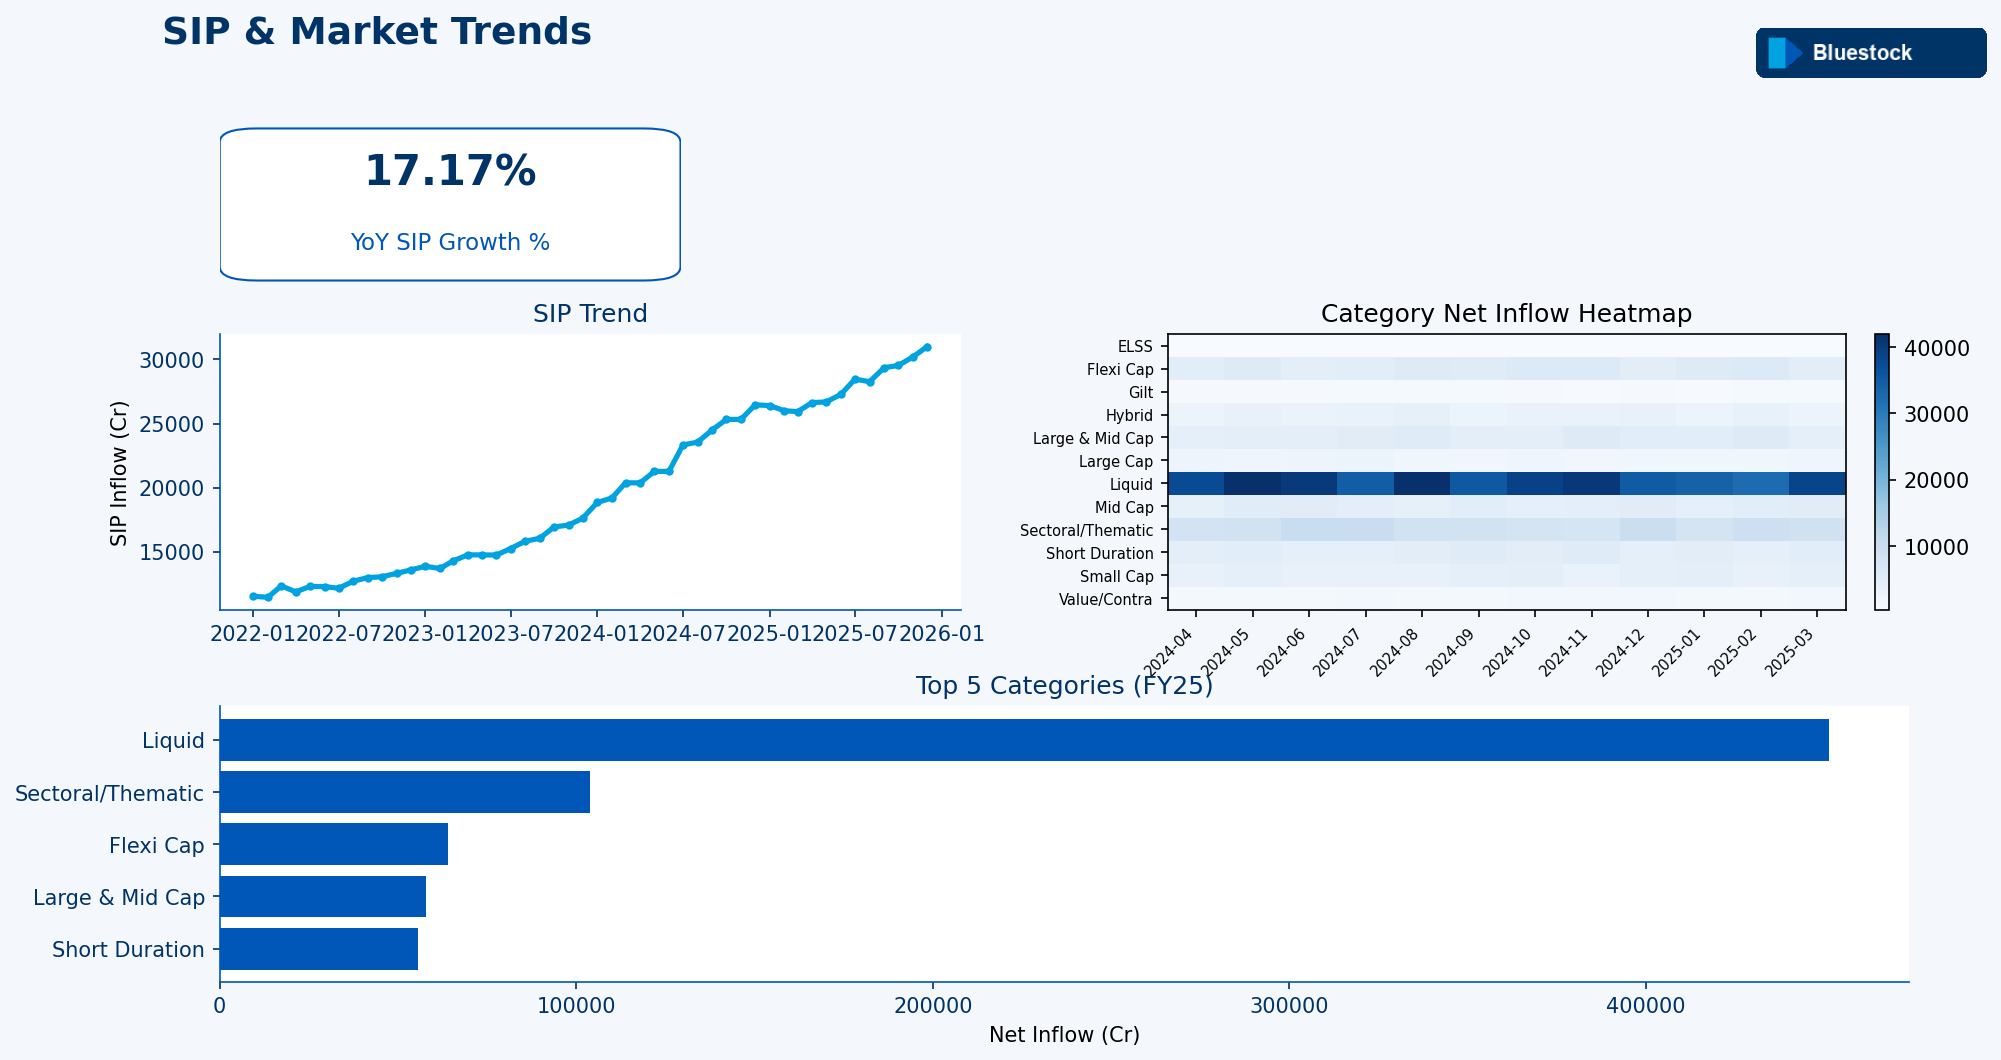

Layout of this report page (visuals, bound fields, positions):
{"tool":"powerbi","page":{"name":"SIP & Market Trends","canvas":[1280,720],"ordinal":3},"visuals":[{"type":"card","fields":{"Values":["_Measures.YoY SIP Growth %"]},"box":[20,20,300,110]},{"type":"lineChart","fields":{"Category":["clean_sip_inflows.month"],"Y":["_Measures.SIP Inflow"]},"box":[20,150,600,320]},{"type":"matrix","fields":{"Values":["clean_category_inflows.category","clean_category_inflows.month","_Measures.Category Net Inflow"]},"box":[640,150,600,320]},{"type":"clusteredBarChart","fields":{"Category":["clean_category_inflows.category"],"Y":["_Measures.Category Net Inflow"]},"box":[20,490,1220,210]}]}

Visuals, with their boxes on the page's 1280x720 design canvas (x1, y1, x2, y2). These are canvas units, not pixel positions in the 2001x1060 screenshot, which may show the page scaled, cropped or inside an application window:
card - _Measures.YoY SIP Growth %: 20:20:320:130
lineChart - clean_sip_inflows.month x _Measures.SIP Inflow: 20:150:620:470
matrix - clean_category_inflows.category x clean_category_inflows.month: 640:150:1240:470
clusteredBarChart - clean_category_inflows.category x _Measures.Category Net Inflow: 20:490:1240:700
